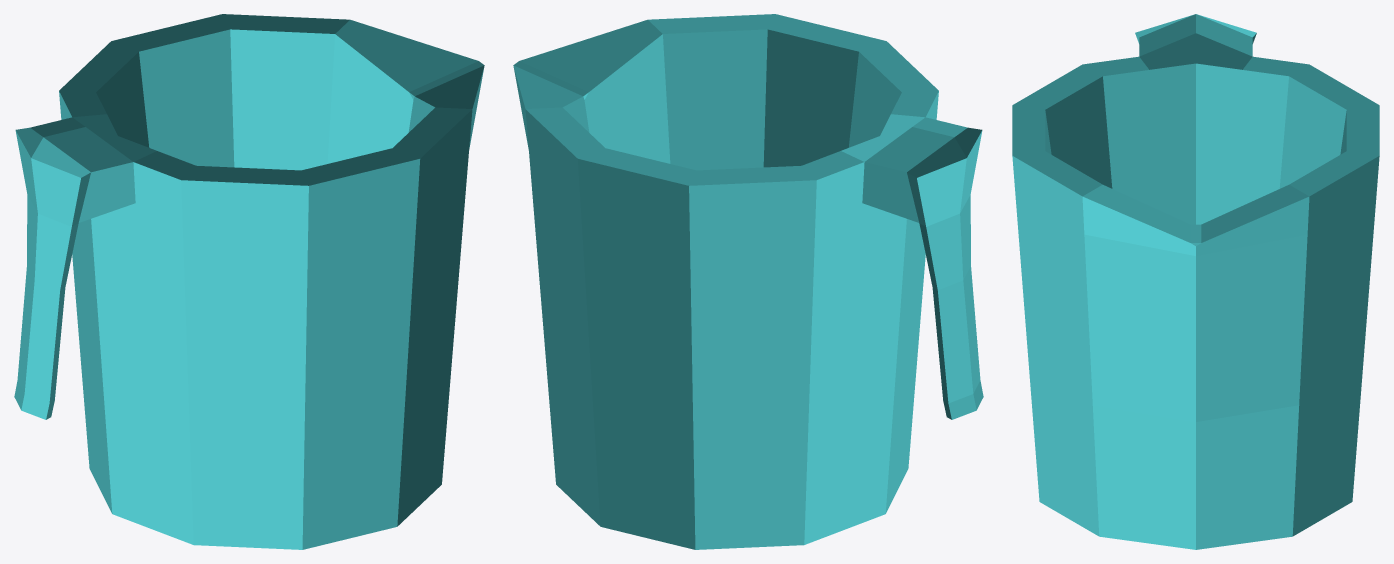
Rendered from Jug.fbx.
3 renders of one model, left to right at view 1: azimuth 30°, elevation 25°; view 2: azimuth 150°, elevation 25°; view 3: azimuth 270°, elevation 25°, orthographic. The views are drawn at different scales.
Visible parts, largest first — view 1: Node 0; view 2: Node 0; view 3: Node 0.
Boxes of the visible parts, left/top/right/bottom form: Node 0: left=14, top=14, right=484, bottom=549; Node 0: left=513, top=14, right=983, bottom=549; Node 0: left=1012, top=14, right=1379, bottom=549.
Size of the model in its own units: 0.2087 by 0.2293 by 0.281.
